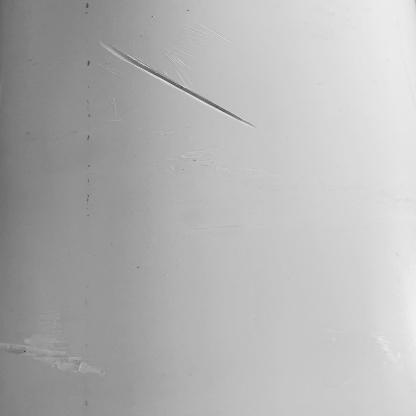sunshang: (103, 40, 254, 128), (1, 335, 108, 374)
